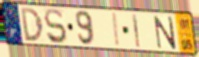9: (75, 10, 96, 47)
D: (19, 7, 45, 43)
I: (111, 11, 121, 48), (131, 13, 141, 49)
N: (153, 14, 178, 51)
S: (43, 7, 69, 45)
